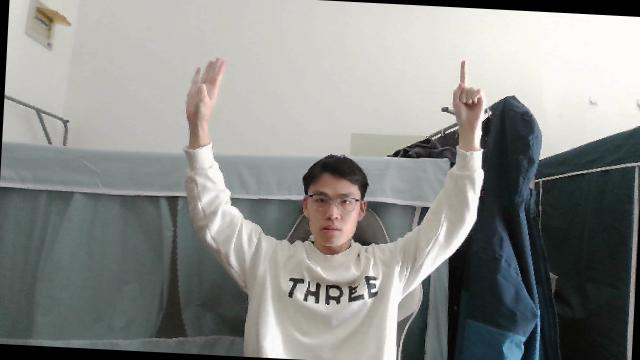one: (448, 55, 488, 128)
